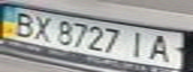2: (84, 23, 106, 53)
7: (103, 25, 127, 55), (69, 20, 90, 50)
8: (51, 18, 75, 47)
A: (145, 33, 181, 63)
B: (6, 10, 39, 38)
I: (124, 28, 151, 60)
X: (27, 14, 57, 43)
